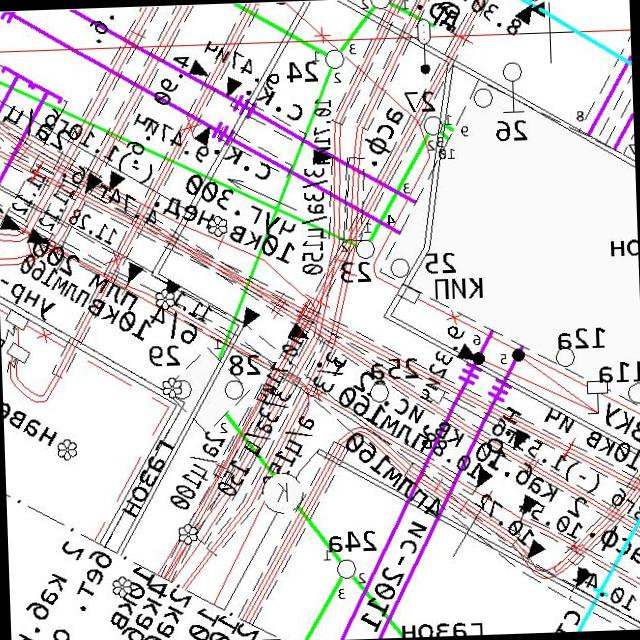bushes: (260, 470, 306, 516), (110, 574, 133, 598), (56, 438, 78, 462), (176, 522, 198, 546), (335, 556, 357, 580), (162, 376, 182, 399)
well: (472, 86, 494, 108), (354, 238, 376, 260), (171, 378, 192, 401), (223, 378, 244, 400), (324, 47, 344, 70), (422, 115, 443, 136), (368, 382, 389, 403), (390, 256, 410, 278), (555, 346, 575, 368)
